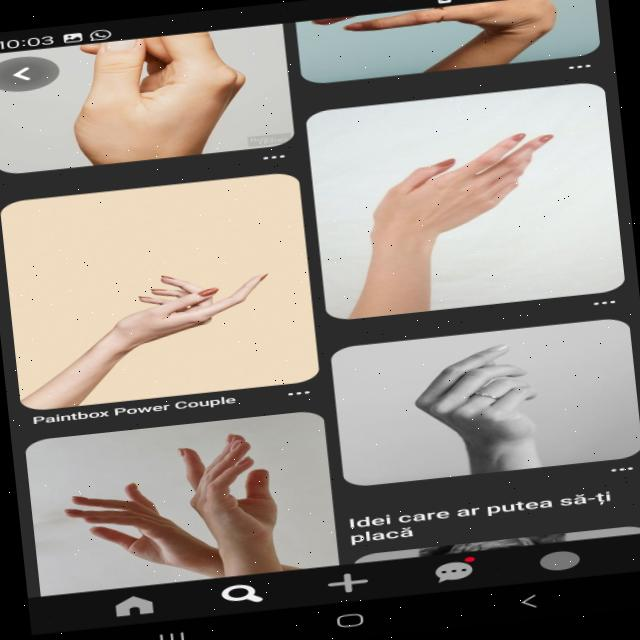hands: (340, 88, 596, 308), (59, 219, 310, 392), (386, 329, 592, 468), (170, 420, 331, 562), (33, 438, 188, 582)
